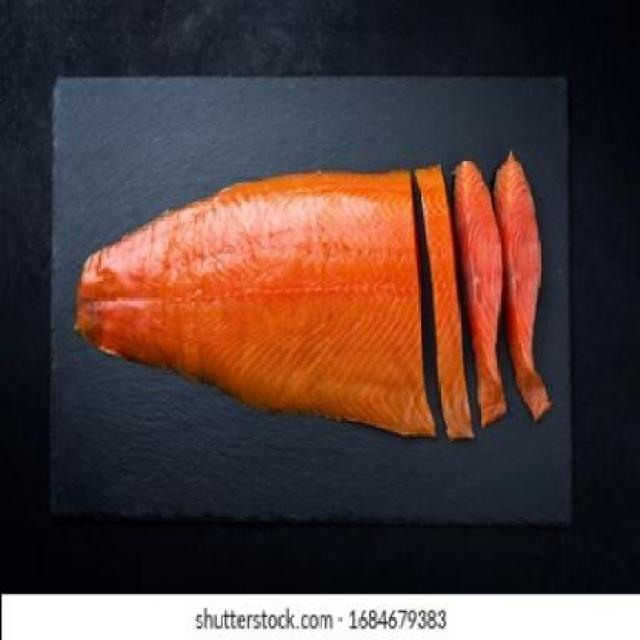salmon: (66, 136, 567, 448)
